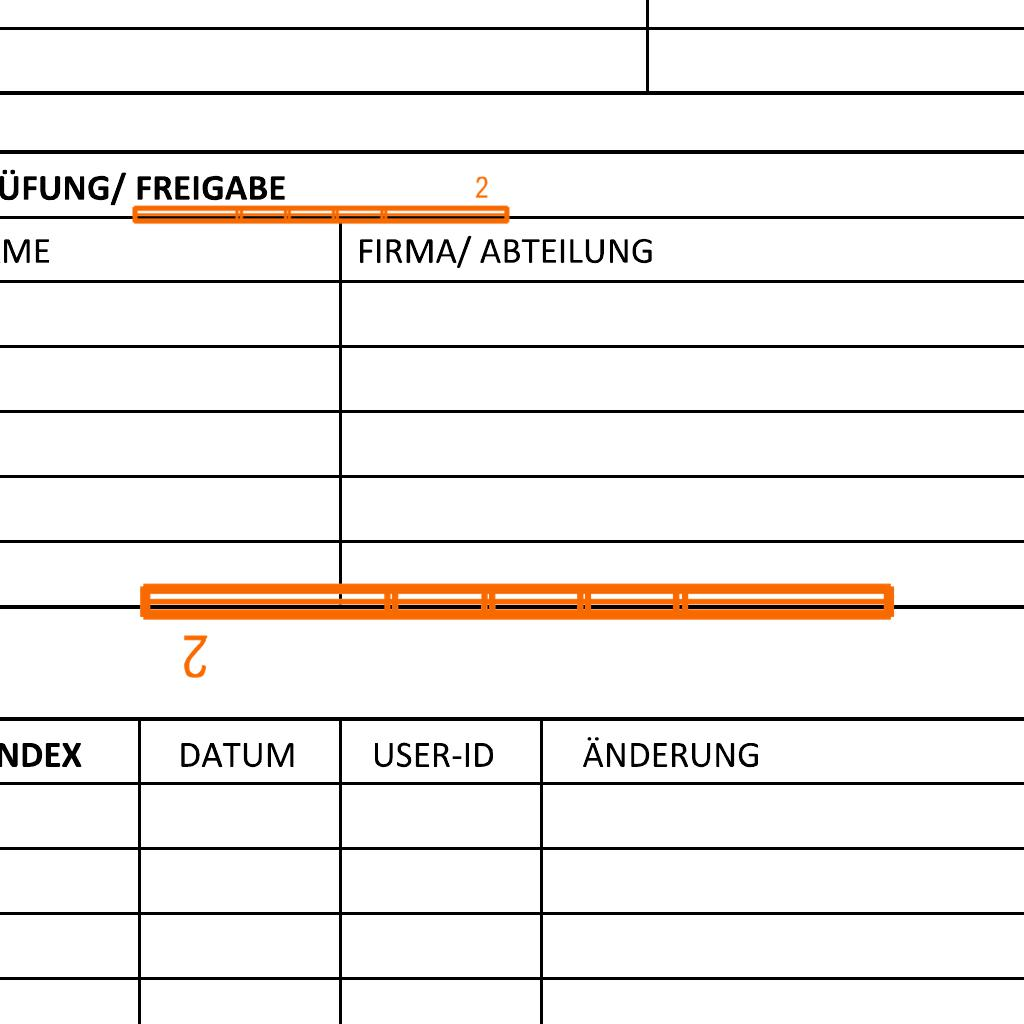Ambulanz_Pendelleuchte_LED: (131, 571, 905, 683), (127, 174, 514, 230)
